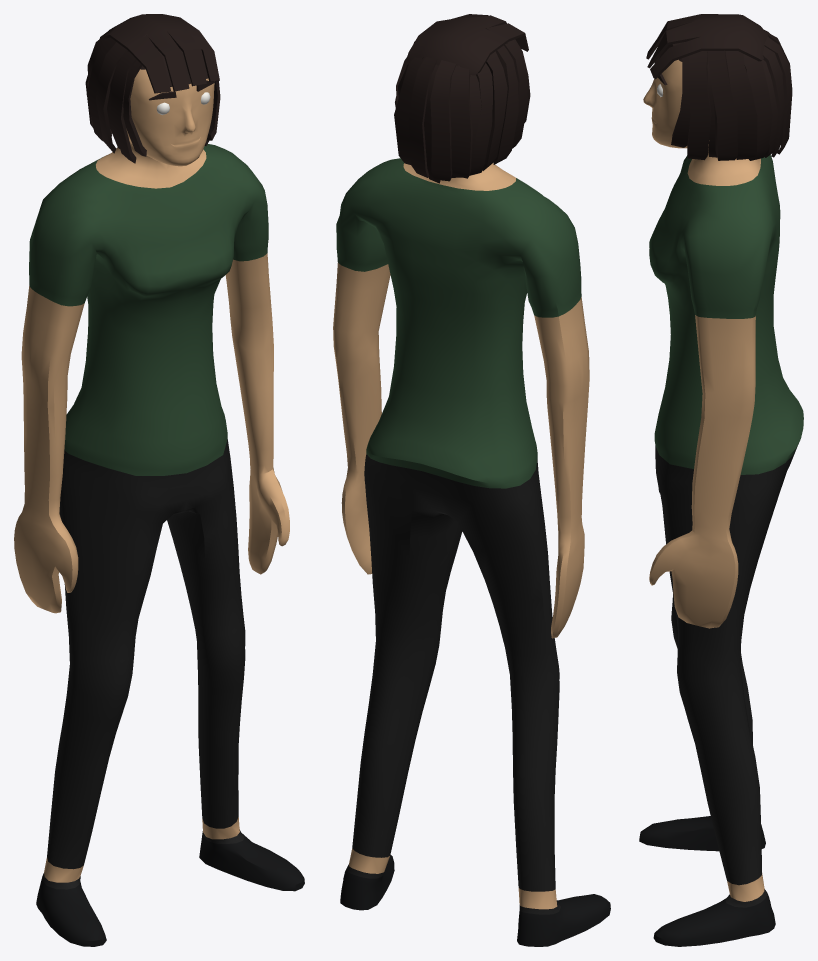
Rendered from smooth_female_casual.glb.
3 views of the same model, side by side, from view 1: azimuth 30°, elevation 25°; view 2: azimuth 150°, elevation 25°; view 3: azimuth 270°, elevation 25° (orthographic). The views are drawn at different scales.
Parts seen in each view (by area): view 1: SmoothFemaleCasual; view 2: SmoothFemaleCasual; view 3: SmoothFemaleCasual.
Part boxes in pixels (x1,y1,x2,y2): SmoothFemaleCasual: [14, 14, 304, 946]; SmoothFemaleCasual: [333, 14, 610, 946]; SmoothFemaleCasual: [639, 14, 803, 946].
Bounding box in the file's own units: 0.5333 × 1.8 × 0.3105.
